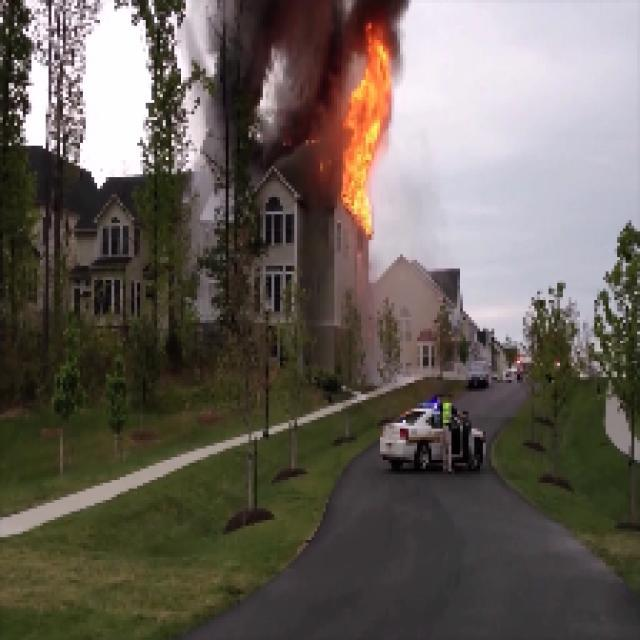Fire: (344, 42, 384, 230)
Smoke: (221, 2, 336, 122), (350, 2, 405, 25)
